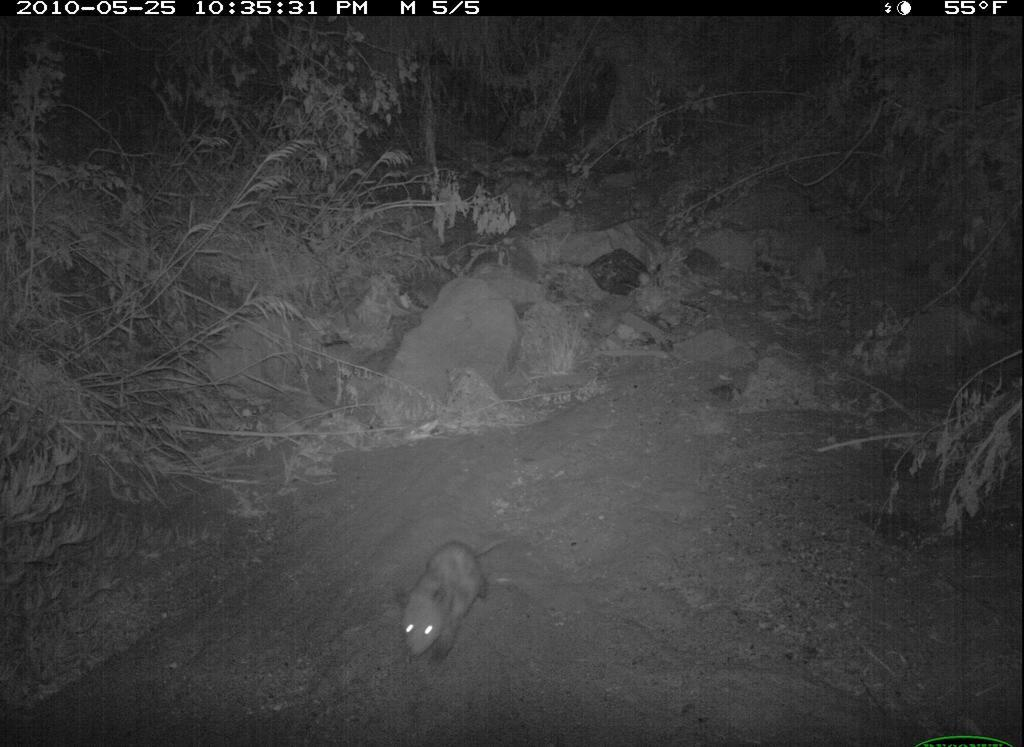opossum: (383, 520, 524, 698)
